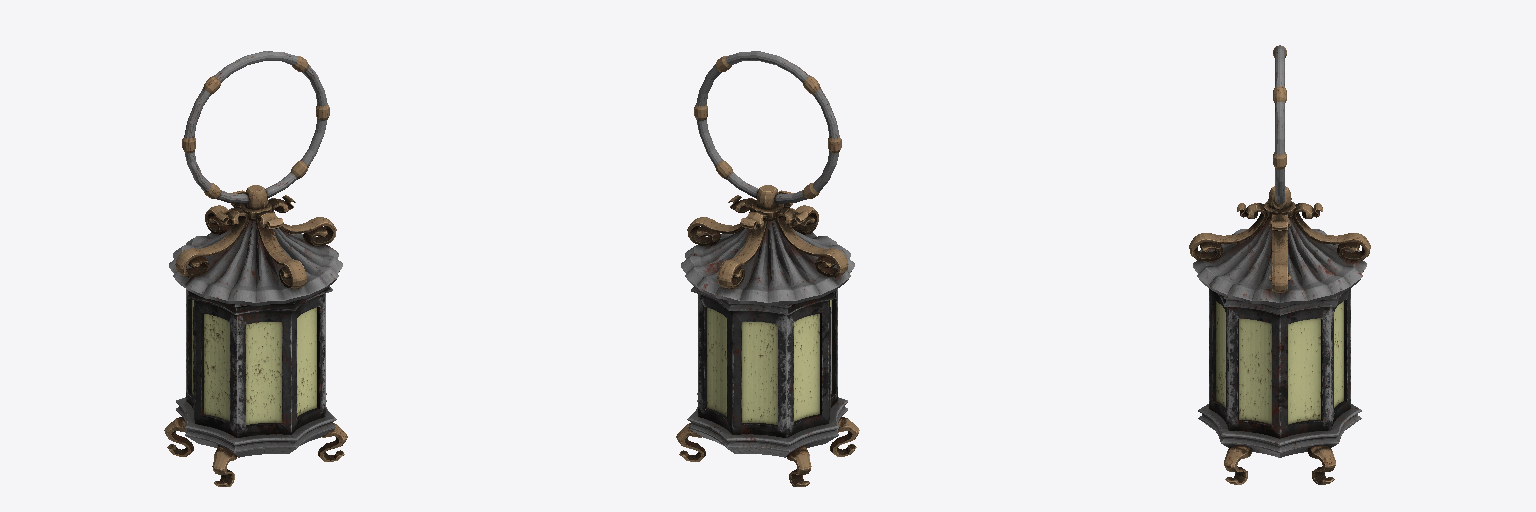
3 views of the same model, side by side, from view 1: azimuth 30°, elevation 25°; view 2: azimuth 150°, elevation 25°; view 3: azimuth 270°, elevation 25° (orthographic).
Visible parts, largest first — view 1: Mesh; view 2: Mesh; view 3: Mesh.
Part boxes in pixels (left/top/right/bottom): Mesh: left=164, top=51, right=347, bottom=486; Mesh: left=676, top=51, right=859, bottom=486; Mesh: left=1189, top=45, right=1370, bottom=484.
Size of the model in its own units: 44.99 by 110 by 44.99.
1 materials, 1 textured.